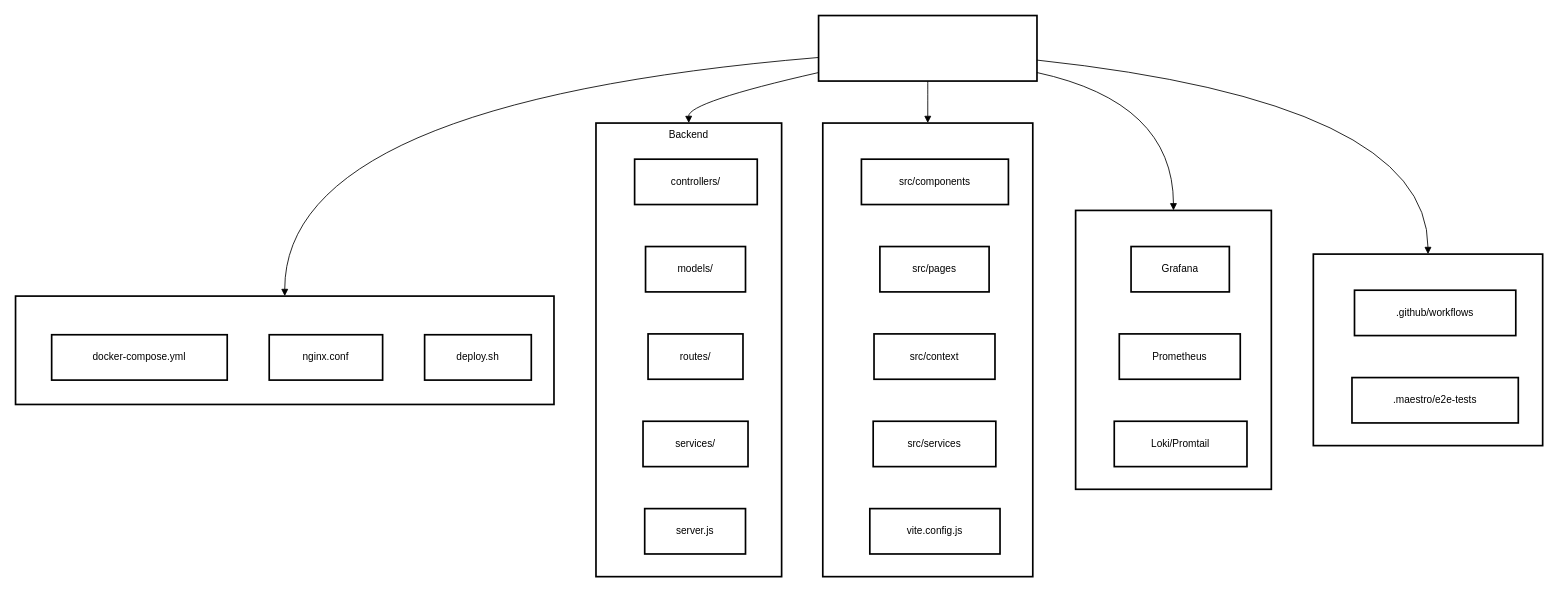
The diagram is 1557 pixels wide and 591 high, and some of its shapes have lost their labels. Each missing label, with the box of its shape:
CI: (1312, 253, 1543, 446)
Config: (14, 295, 554, 405)
Frontend: (822, 122, 1033, 577)
Obs: (1074, 209, 1272, 490)
trevictus-tabletopmastering: (817, 14, 1037, 81)
